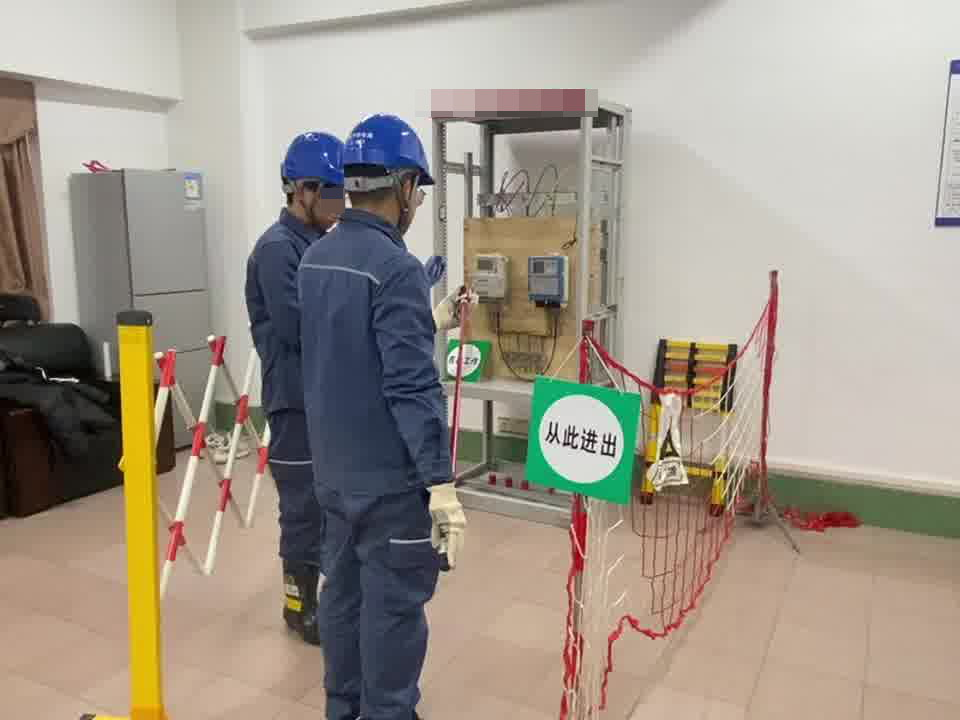downsuit: (313, 497, 437, 720), (265, 412, 321, 565)
halt: (340, 111, 438, 231), (277, 129, 349, 225)
inear: (391, 161, 421, 234), (293, 177, 322, 225)
intosign: (517, 368, 642, 511)
person: (290, 107, 466, 720), (242, 122, 355, 637)
shoe: (283, 556, 320, 644)
testrod: (439, 287, 481, 577)
upsuit: (298, 210, 459, 493), (245, 218, 328, 417)
wglove: (427, 482, 468, 568), (430, 282, 480, 332)
worksign: (443, 339, 493, 382)
